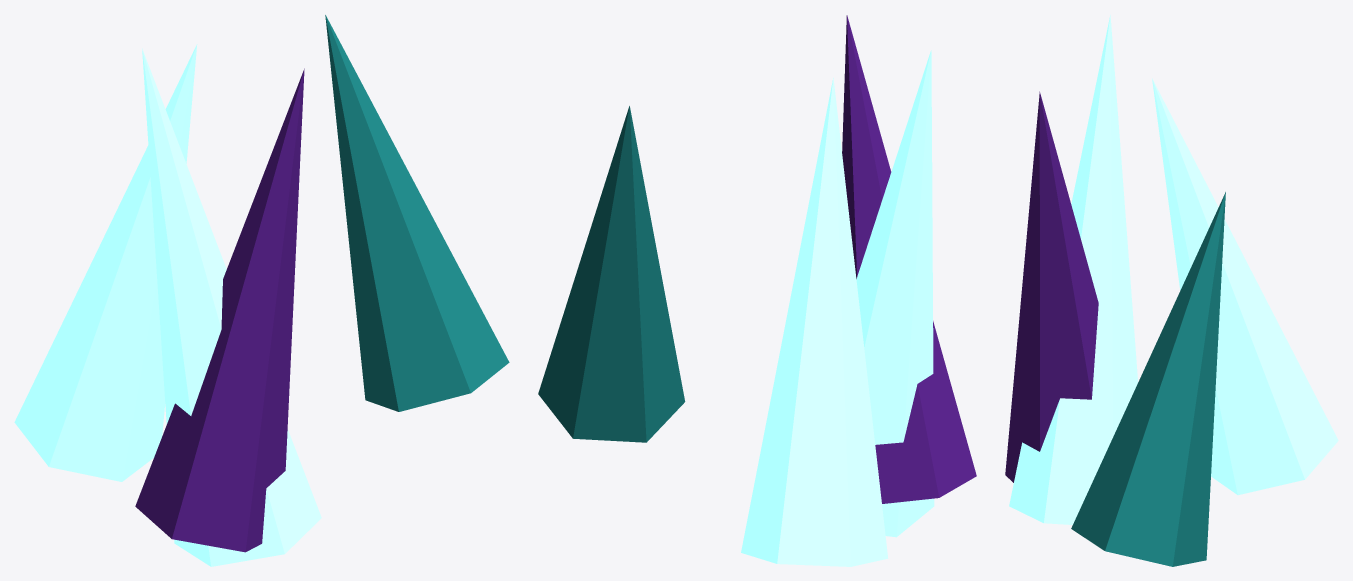
File: Prop_OR_Crystal_17.glb
3 views of the same model, side by side, from view 1: azimuth 30°, elevation 25°; view 2: azimuth 150°, elevation 25°; view 3: azimuth 270°, elevation 25° (orthographic). The views are drawn at different scales.
Visible parts, largest first — view 1: Prop_OR_Crystal_17; view 2: Prop_OR_Crystal_17; view 3: Prop_OR_Crystal_17.
Part boxes in pixels (x1,y1,x2,y2): Prop_OR_Crystal_17: (14,15,509,566); Prop_OR_Crystal_17: (538,15,976,566); Prop_OR_Crystal_17: (1005,14,1338,566).
Bounding box in the file's own units: 0.7532 × 0.9271 × 0.5984.
